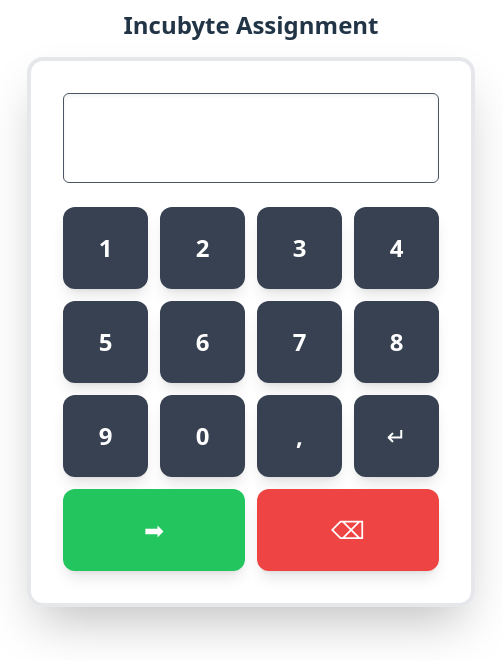
Test: Calculator Component › allows user to input numbers via UI buttons
Step 1. Click the button "1" → (106, 248), box [63,207,148,289]
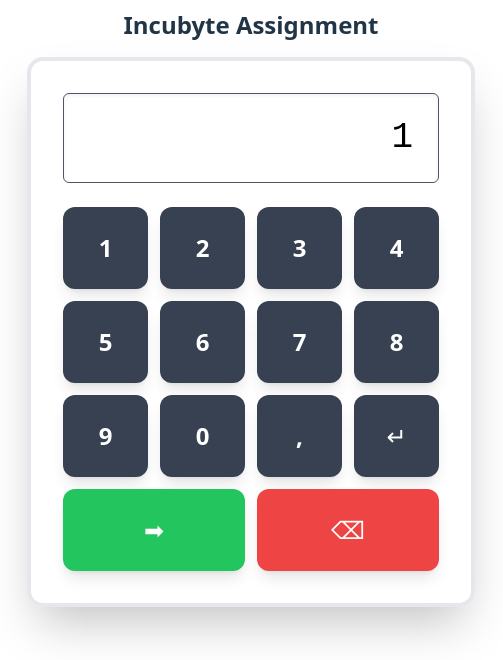
Step 2. Click the button "2" → (202, 248), box [160,207,245,289]
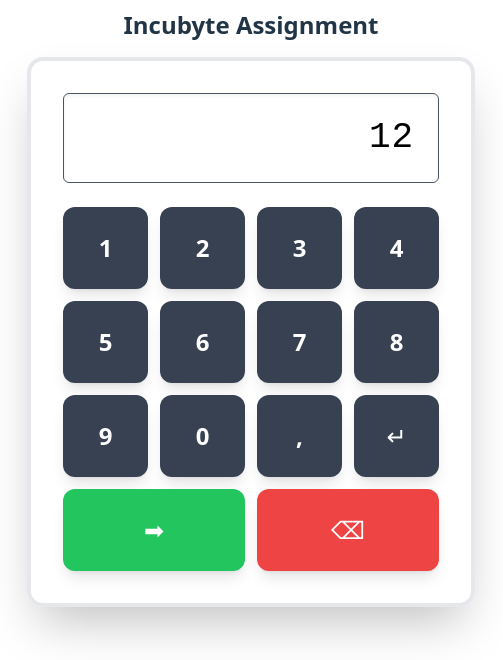
Step 3. Click the button "3" → (300, 248), box [257,207,342,289]
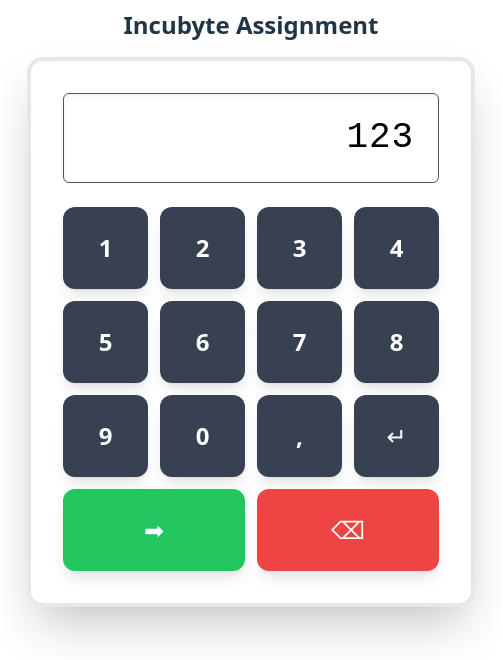
Now the field holds "123", box [63,93,439,183]
